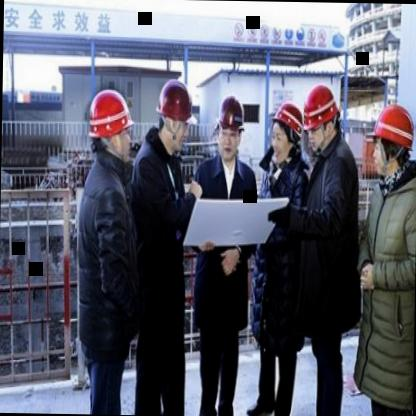helmet: (85, 84, 135, 165), (370, 101, 416, 180), (154, 75, 194, 151), (301, 79, 341, 153), (268, 99, 302, 161), (216, 90, 244, 164)
